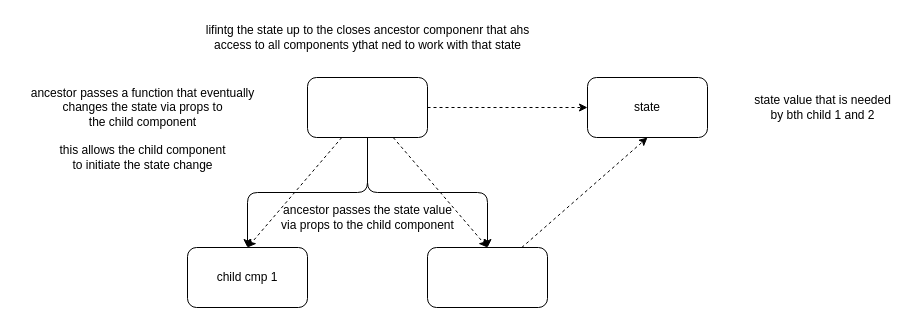
Some shapes in this 919 by 325 pixel diagram are drawn without their labels. Each missing label, with the box of its shape:
ancestor state: (306, 76, 428, 138)
child cmp 2: (426, 246, 548, 308)
